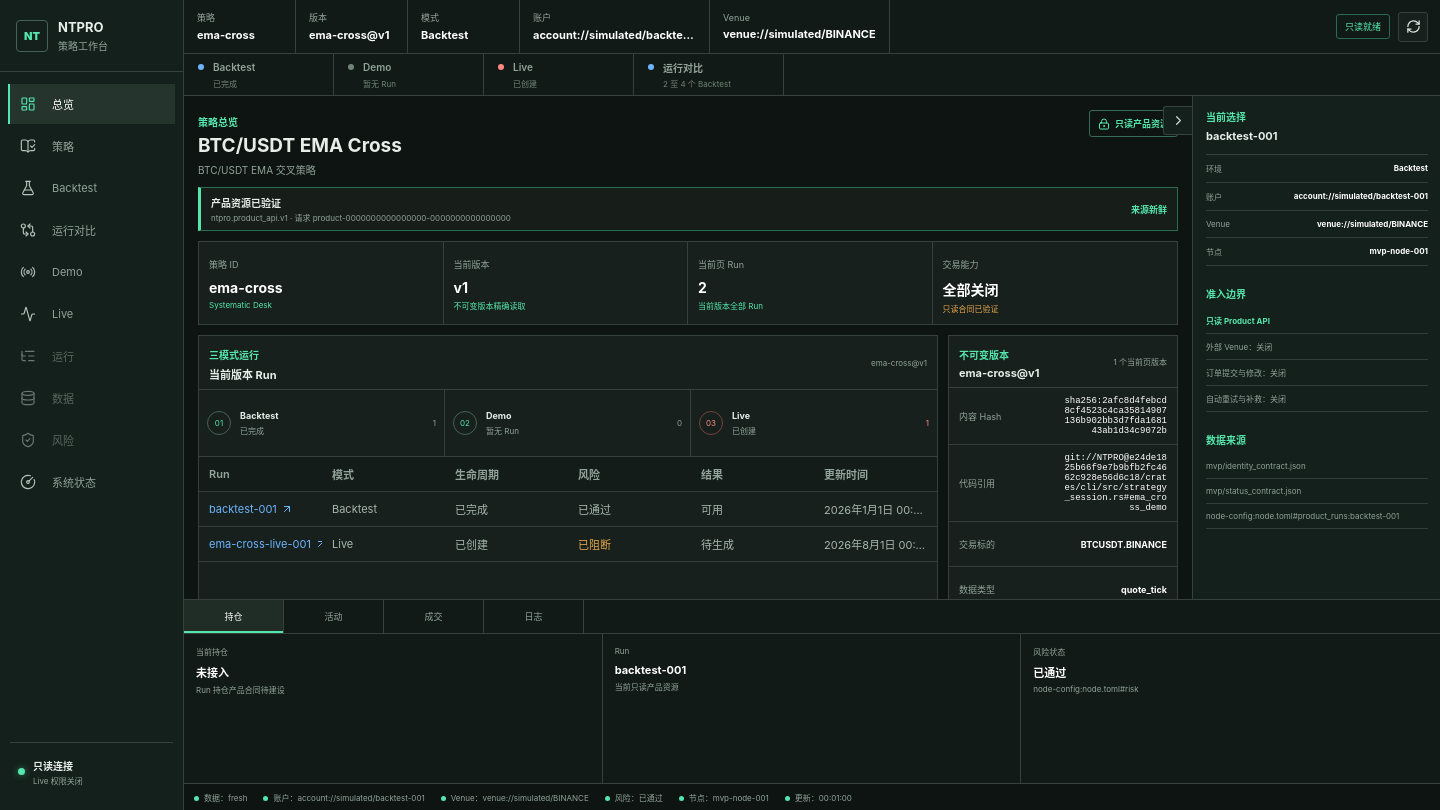
Test: strategy workbench product slice › renders Product API resources and opens a Run deep link
This screenshot has width=1440, height=810.
Expected: the text "产品资源已验证" is shown, [211, 197, 281, 209]
Expected: the heading "BTC/USDT EMA Cross" is shown, [198, 134, 402, 157]
Click the link "ema-cross-live-001". click: (268,544)
box: [209, 537, 327, 551]
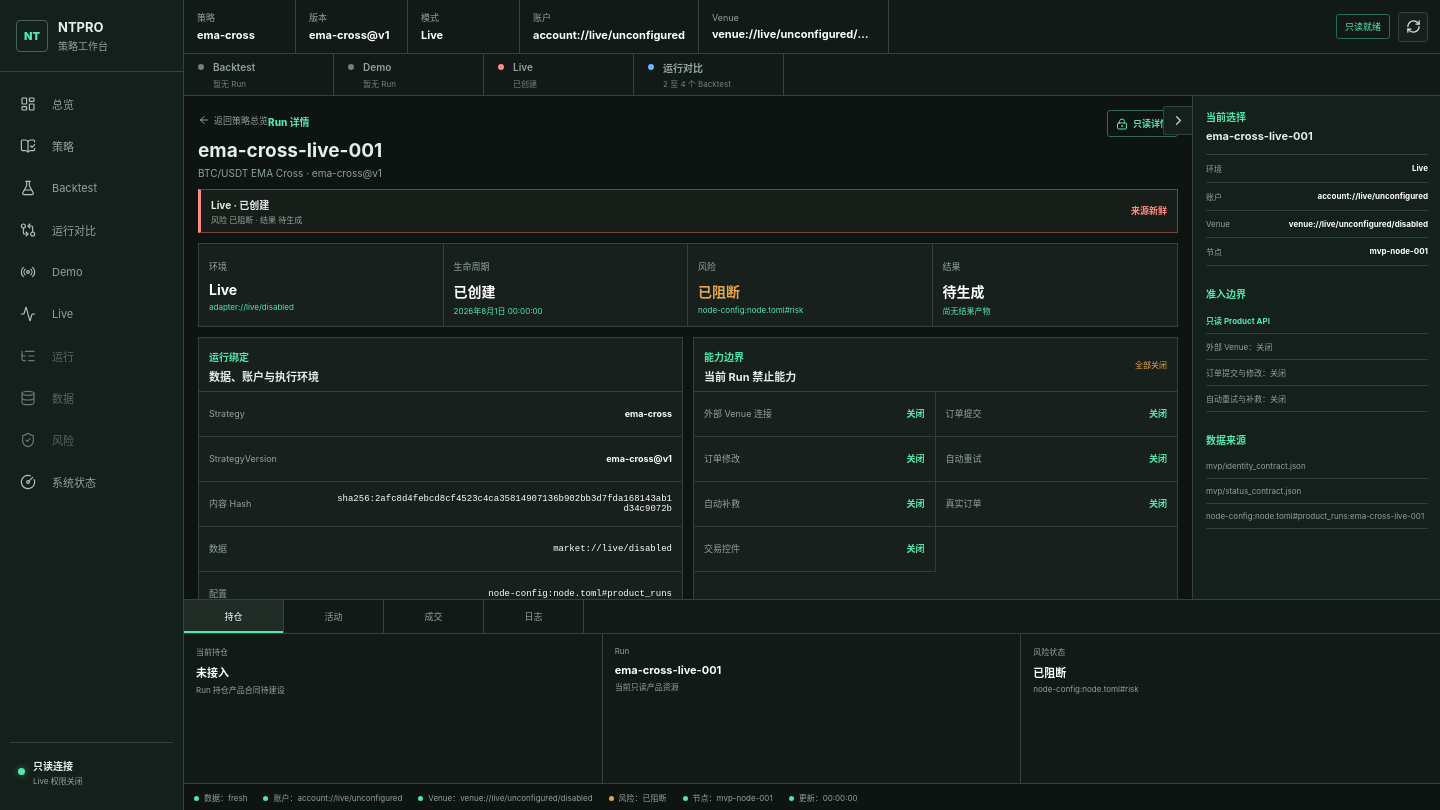
Expected: the heading "ema-cross-live-001" is shown, [198, 138, 382, 162]
Expected: the heading "当前 Run 禁止能力" is shown, [704, 368, 796, 384]
Expected: the text "关闭" is shown 7 times
